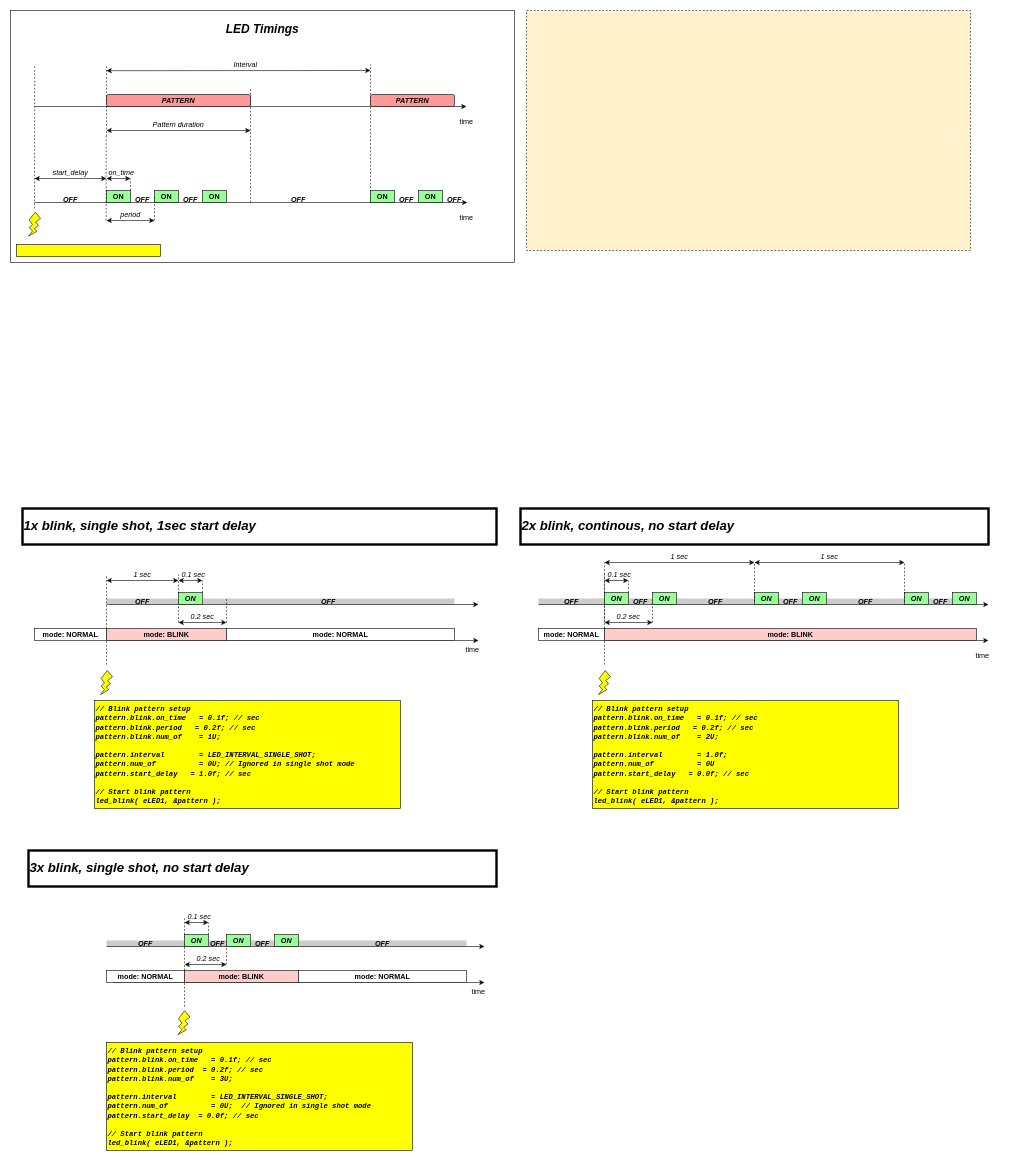
This 1011x1161 diagram has some shape labels left out. The shapes that lost their labels are listed below. From the top down, each one's box as (x1, y1, x2, y2) in pixels, then its label:
(526, 10, 970, 250): LED API
(16, 244, 160, 256): Calling API function "led_blink"
